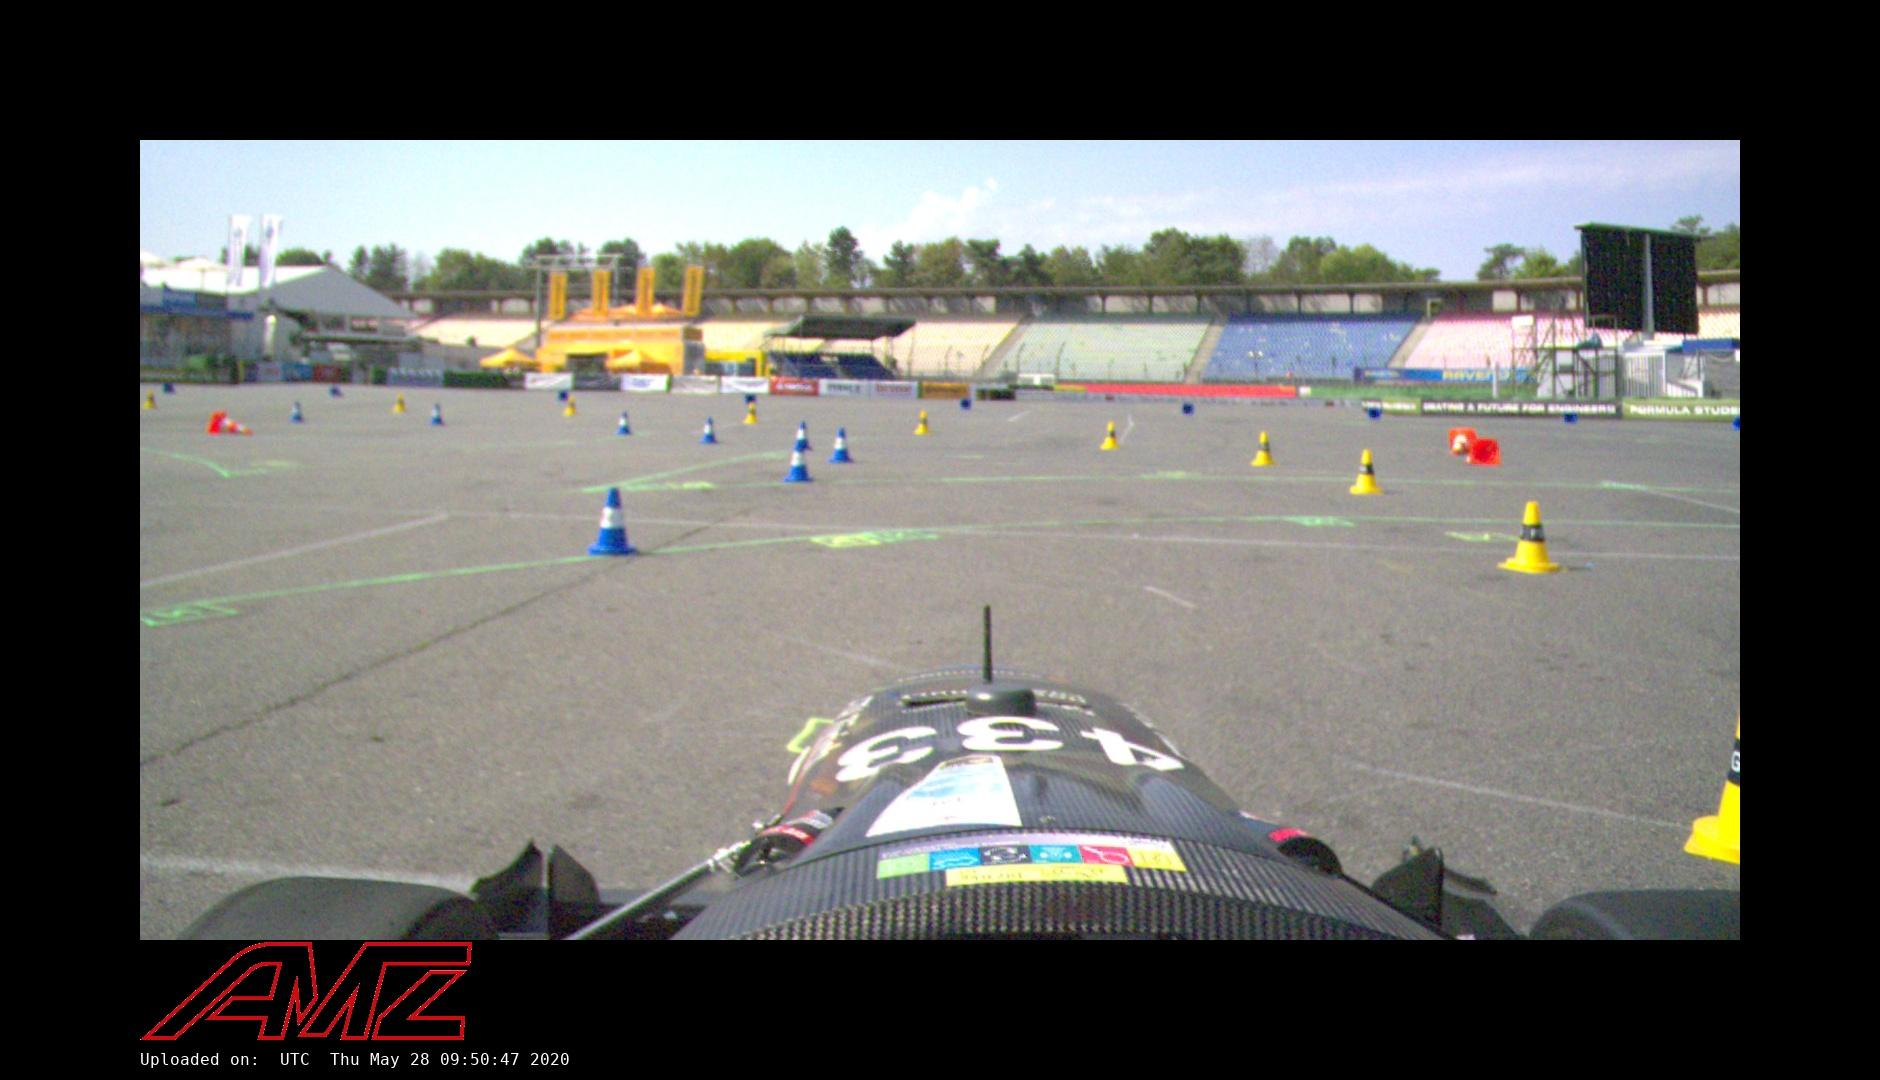blue_cone: (586, 486, 638, 557), (782, 442, 815, 484), (826, 428, 856, 464), (790, 420, 813, 452), (699, 415, 719, 446), (612, 410, 631, 437), (288, 400, 306, 424), (427, 402, 445, 425)
orange_cone: (204, 410, 253, 435), (1464, 439, 1502, 466), (1447, 428, 1478, 456)
yellow_cone: (1680, 690, 1739, 873), (1495, 497, 1562, 576), (1347, 448, 1385, 496), (1250, 431, 1280, 466), (1099, 422, 1122, 451), (912, 410, 934, 435), (742, 399, 759, 426), (141, 388, 159, 411), (560, 395, 578, 419), (393, 391, 407, 415)
